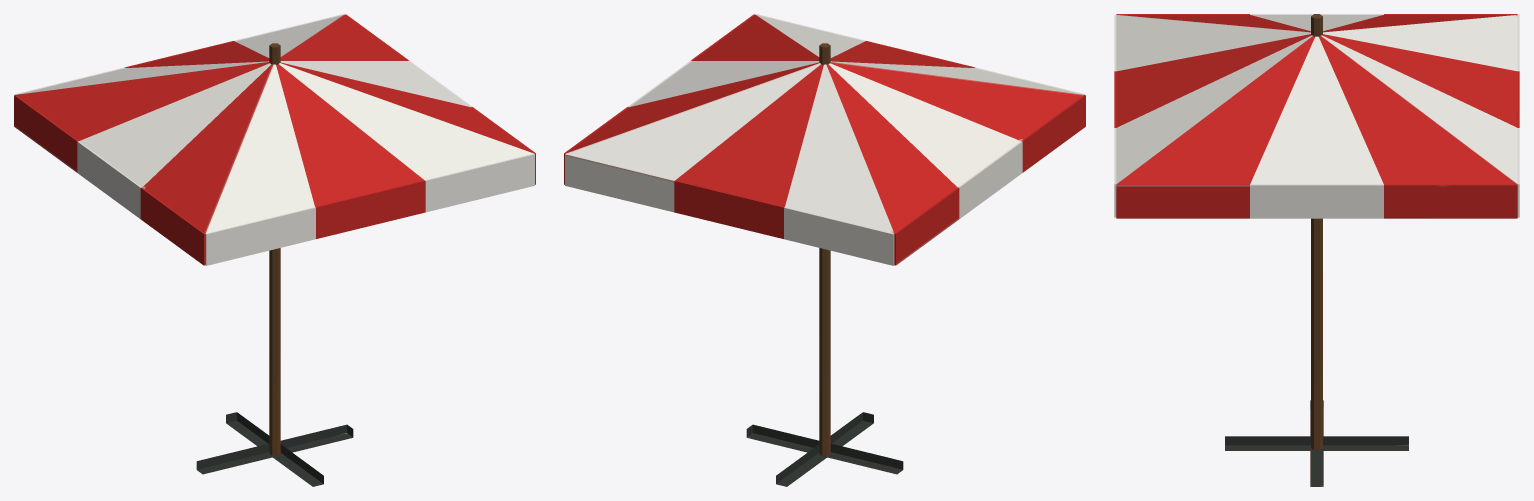
Rendered from slunecnik_ctverec_83e1802e.glb.
3 renders of one model, left to right at view 1: azimuth 30°, elevation 25°; view 2: azimuth 150°, elevation 25°; view 3: azimuth 270°, elevation 25°, orthographic. The views are drawn at different scales.
Parts seen in each view (by area): view 1: dum; view 2: dum; view 3: dum.
Boxes of the visible parts, x1,y1,x2,y2 form: dum: (14, 14, 535, 486); dum: (564, 14, 1085, 486); dum: (1114, 14, 1519, 486).
Size of the model in its own units: 2.42 by 2.84 by 2.42.
1 material, 1 textured.
